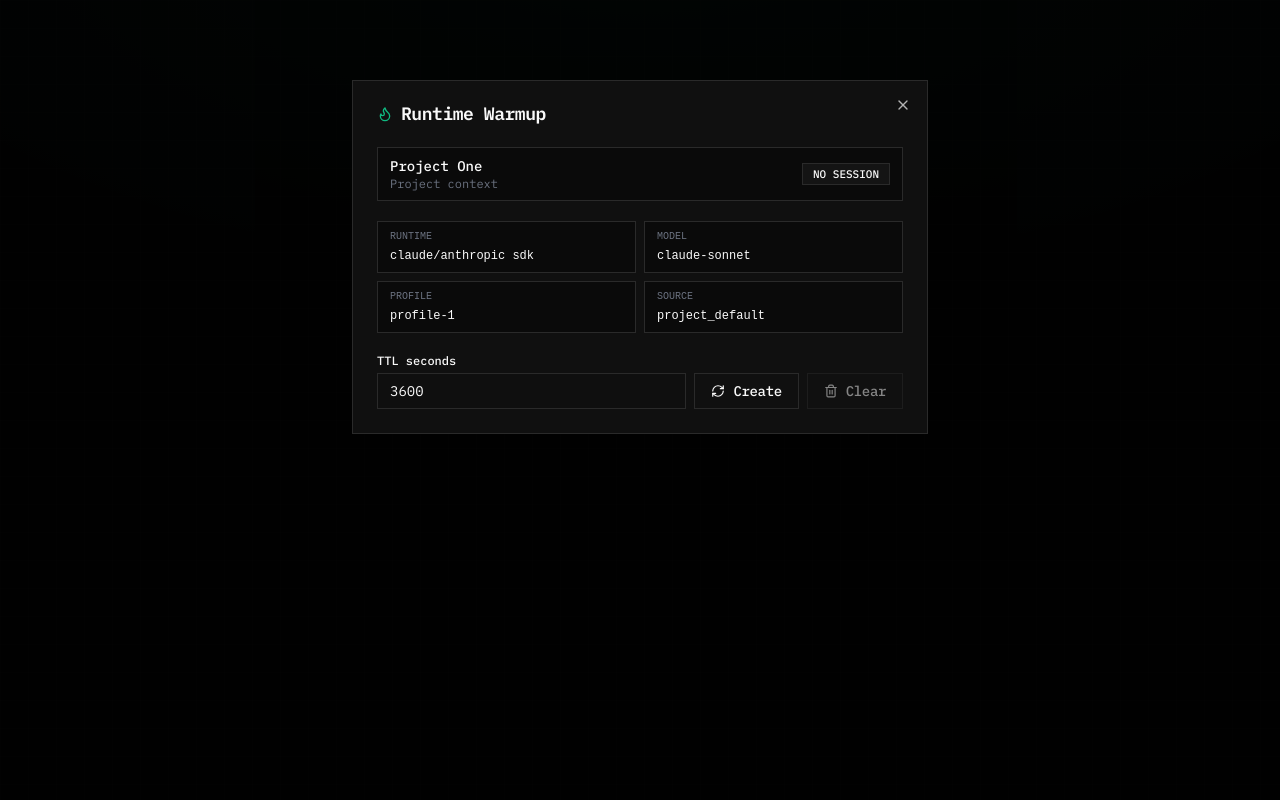
Test: WarmupDialog › shows a warning instead of success when warmup creation is partial
Click the button "Create": (747, 391) [694, 373, 799, 409]
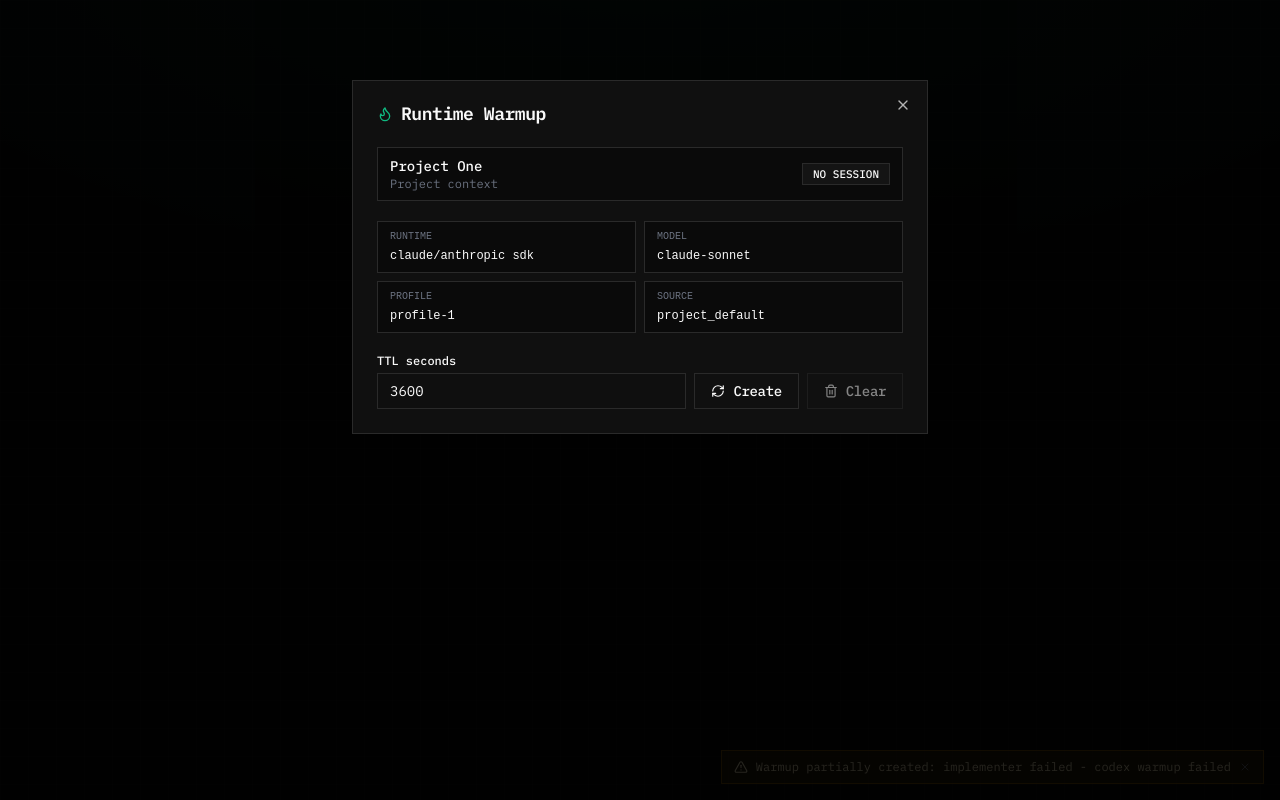
Check: the text "Warmup partially created: implementer failed - codex warmup failed" is shown, box [756, 759, 1231, 775]
